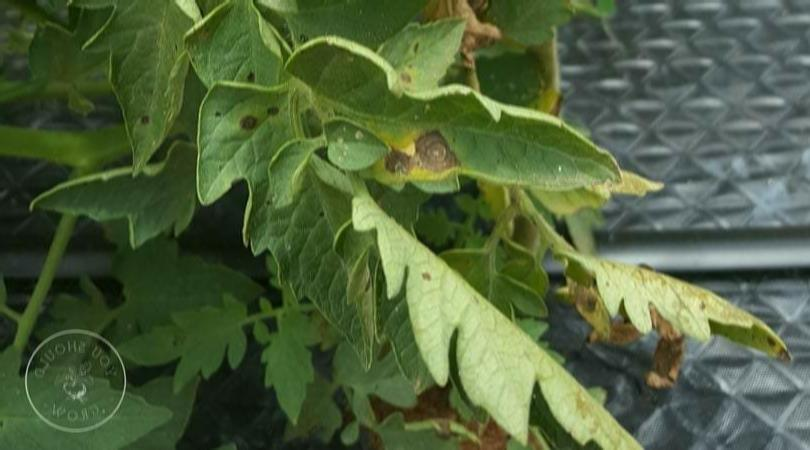Tomato Early blight leaf: (287, 31, 660, 201)
Tomato leaf: (29, 133, 210, 254), (111, 283, 253, 388)
